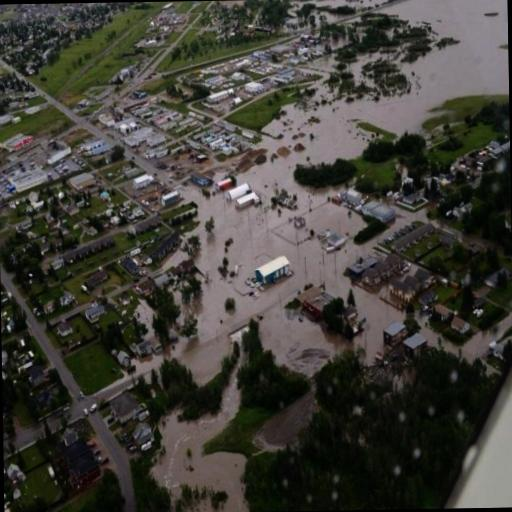flood: (150, 0, 509, 512)
house: (60, 440, 103, 486), (251, 253, 293, 290), (391, 224, 435, 253), (63, 239, 115, 263), (108, 391, 144, 425), (296, 285, 334, 312), (8, 168, 48, 192), (229, 180, 260, 210), (150, 233, 181, 262), (133, 331, 160, 360), (206, 168, 233, 194), (362, 200, 393, 222), (402, 332, 428, 358), (382, 322, 406, 346), (2, 132, 30, 152), (348, 257, 376, 277), (134, 423, 154, 449), (388, 280, 414, 298), (134, 215, 160, 233), (69, 173, 95, 190), (118, 118, 140, 136), (86, 269, 108, 286), (416, 268, 432, 289), (451, 316, 469, 334), (160, 190, 180, 206), (122, 256, 138, 276), (324, 233, 346, 247), (85, 304, 102, 322), (132, 174, 149, 192), (391, 254, 406, 274), (363, 269, 380, 286), (6, 462, 22, 480), (56, 320, 72, 338), (404, 276, 420, 294), (432, 304, 454, 316), (136, 282, 154, 296), (177, 259, 194, 272), (378, 263, 390, 280), (118, 293, 130, 306), (2, 350, 10, 368)
